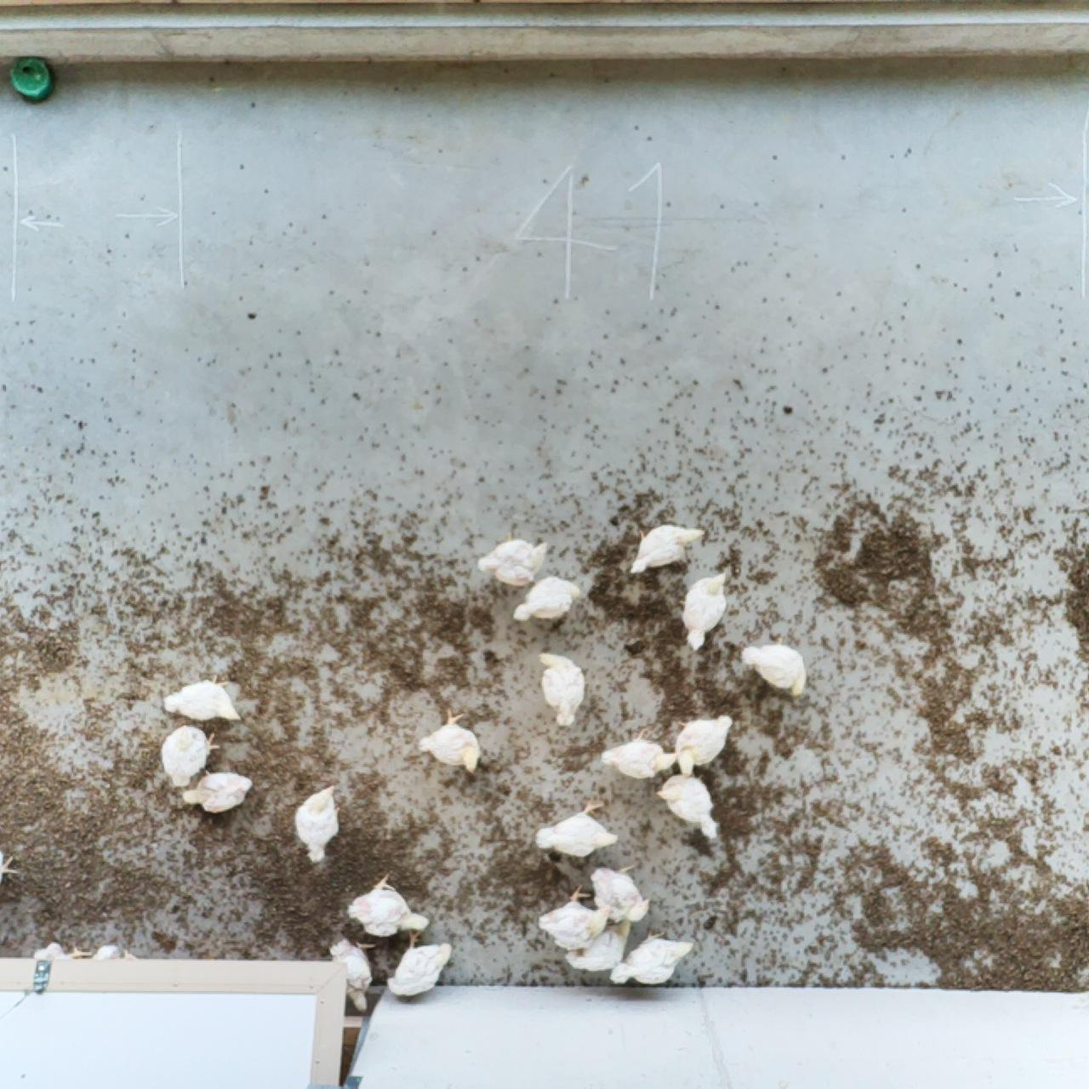chicken: (530, 795, 621, 859), (345, 872, 430, 938), (607, 927, 696, 988), (536, 883, 611, 954), (383, 927, 453, 1002), (416, 704, 485, 777), (654, 771, 721, 844), (627, 518, 708, 578), (473, 531, 554, 590), (291, 780, 345, 866), (536, 647, 590, 731), (508, 569, 583, 629), (671, 710, 735, 780), (326, 934, 380, 1014), (737, 638, 809, 698), (160, 672, 241, 725), (600, 728, 681, 781), (586, 860, 651, 923), (562, 915, 633, 972), (681, 567, 728, 652), (159, 724, 219, 788), (178, 767, 255, 813), (33, 937, 92, 967), (94, 939, 140, 964)
